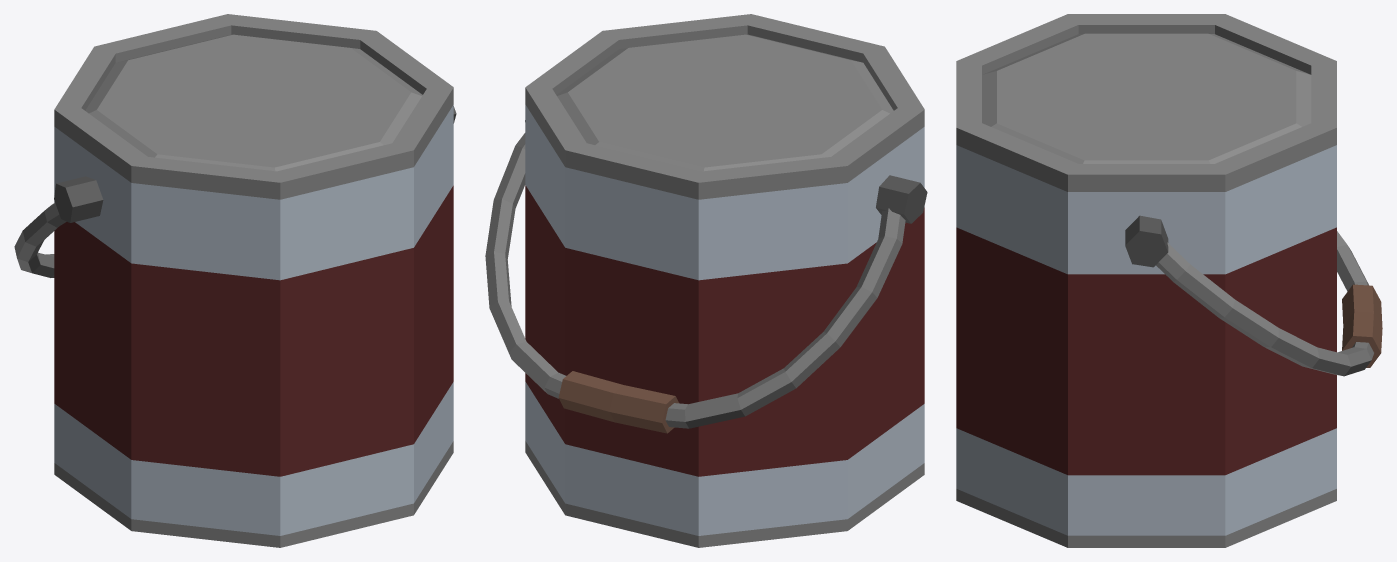
File: Dye_03.fbx
3 renders of one model, left to right at view 1: azimuth 30°, elevation 25°; view 2: azimuth 150°, elevation 25°; view 3: azimuth 270°, elevation 25°, orthographic. The views are drawn at different scales.
Parts seen in each view (by area): view 1: Dye_03; view 2: Dye_03; view 3: Dye_03.
Part boxes in pixels (left/top/right/bottom): Dye_03: left=14, top=14, right=456, bottom=547; Dye_03: left=485, top=14, right=927, bottom=547; Dye_03: left=956, top=14, right=1382, bottom=547.
Bounding box in the file's own units: 26.62 × 24.17 × 25.01.
